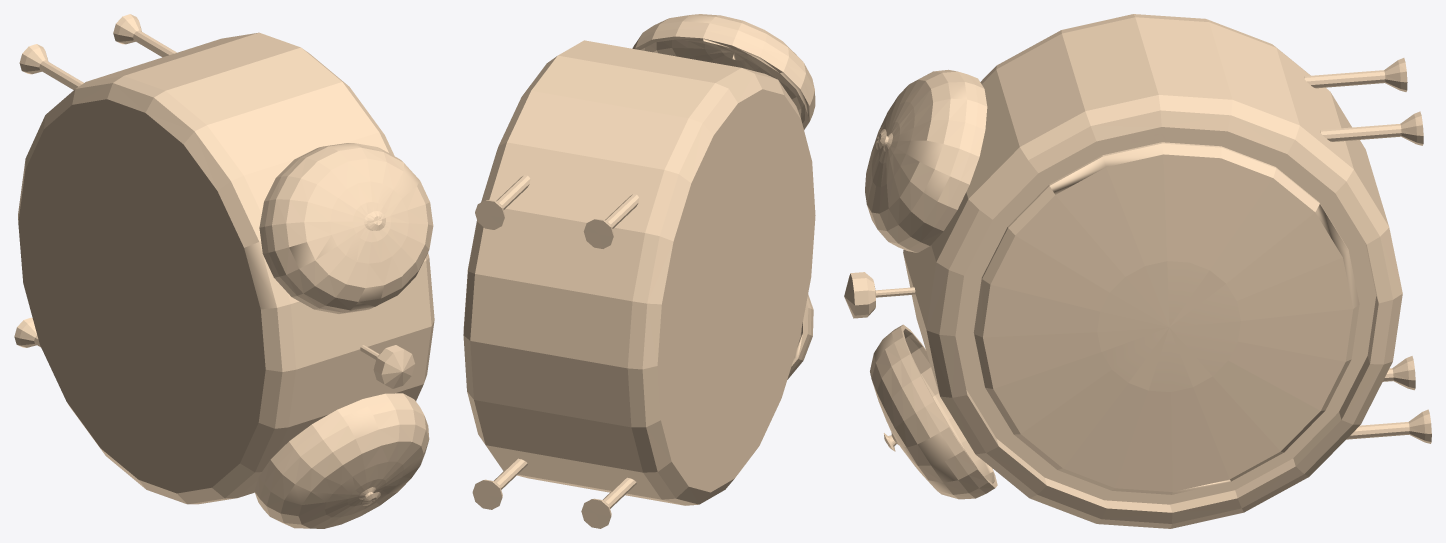
The model's file is alarmClock1_2.dae.
3 views of the same model, side by side, from view 1: azimuth 30°, elevation 25°; view 2: azimuth 150°, elevation 25°; view 3: azimuth 270°, elevation 25° (orthographic). The views are drawn at different scales.
Visible parts, largest first — view 1: M006126_019; view 2: M006126_019; view 3: M006126_019.
Part boxes in pixels (left/top/right/bottom): M006126_019: left=14, top=14, right=434, bottom=528; M006126_019: left=463, top=14, right=815, bottom=528; M006126_019: left=844, top=14, right=1431, bottom=528.
Size of the model in its own units: 0.1 by 0.2041 by 0.1669.
